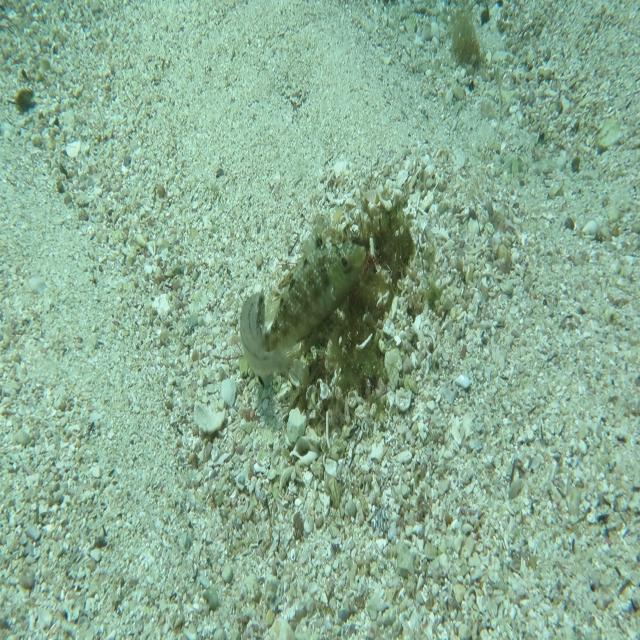FAN: (239, 226, 367, 376)
core_nest: (349, 220, 397, 276)
female: (239, 291, 302, 387)
nest: (274, 149, 434, 416)
